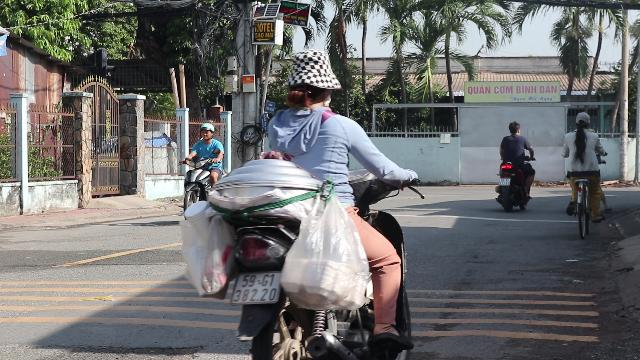helmet: (198, 122, 214, 140)
licenseplate: (228, 274, 280, 302)
motorcyclist: (175, 44, 428, 360)
nohelmet: (280, 48, 342, 109)
